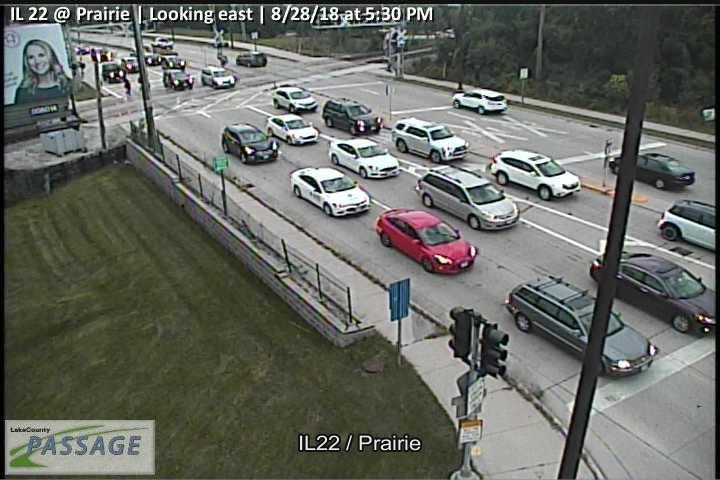SUV: (415, 164, 521, 231), (489, 149, 582, 200), (390, 118, 471, 163), (657, 198, 717, 249), (221, 122, 279, 164), (322, 97, 383, 136), (451, 88, 507, 114), (272, 86, 319, 113), (201, 65, 237, 89), (163, 68, 194, 90), (235, 51, 268, 68), (102, 63, 126, 84)
Sedan: (506, 276, 656, 376), (590, 249, 717, 334), (374, 207, 478, 274), (289, 166, 370, 217), (609, 151, 695, 189), (328, 137, 400, 179), (266, 113, 319, 145)
